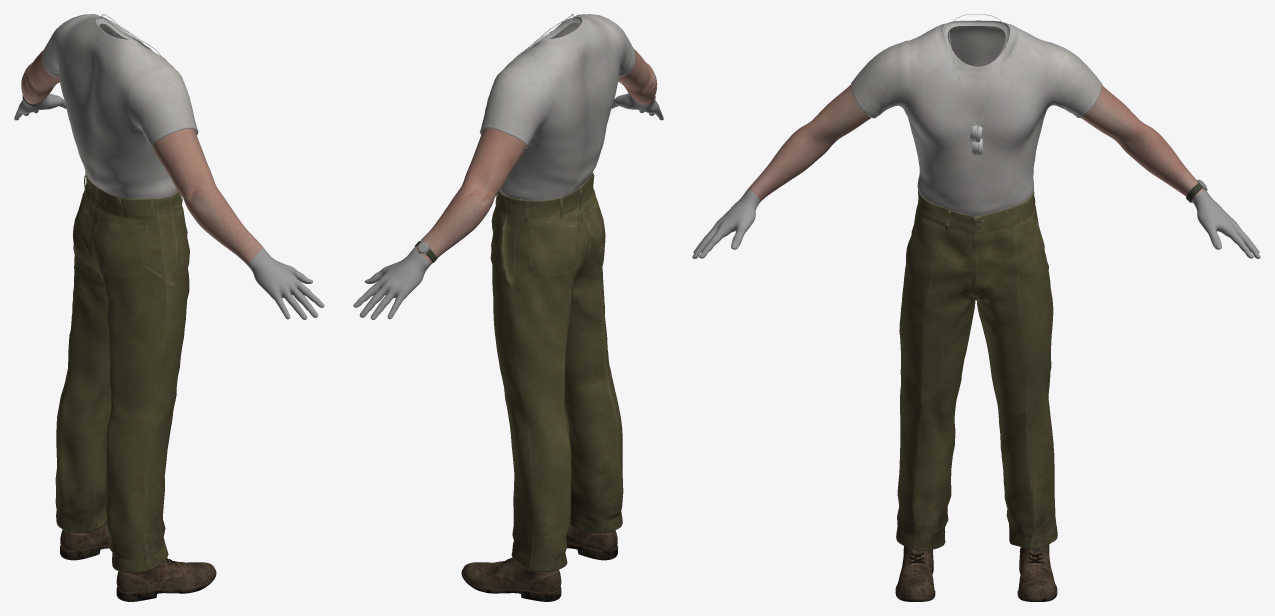
File: SM_CharlieBodyStandard.FBX
3 views of the same model, side by side, from view 1: azimuth 30°, elevation 25°; view 2: azimuth 150°, elevation 25°; view 3: azimuth 270°, elevation 25° (orthographic).
Visible parts, largest first — view 1: SM_CharlieBodyStandard; view 2: SM_CharlieBodyStandard; view 3: SM_CharlieBodyStandard.
Boxes of the visible parts, x1=… form: SM_CharlieBodyStandard: x1=14, y1=14, x2=324, y2=601; SM_CharlieBodyStandard: x1=353, y1=14, x2=663, y2=601; SM_CharlieBodyStandard: x1=692, y1=14, x2=1260, y2=601.
Size of the model in its own units: 32.41 by 155 by 143.
